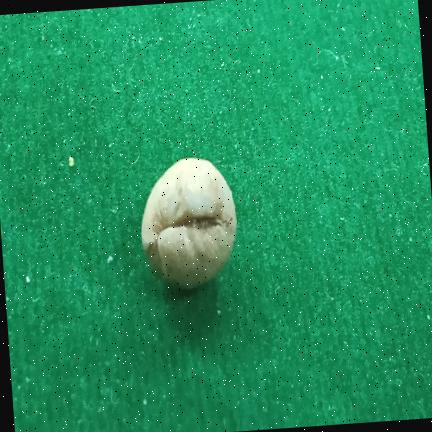cut: (141, 158, 236, 288)
